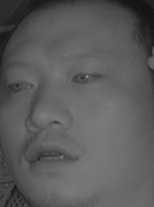eye: (71, 66, 104, 89), (6, 73, 36, 96)
mouth: (23, 139, 82, 175)
